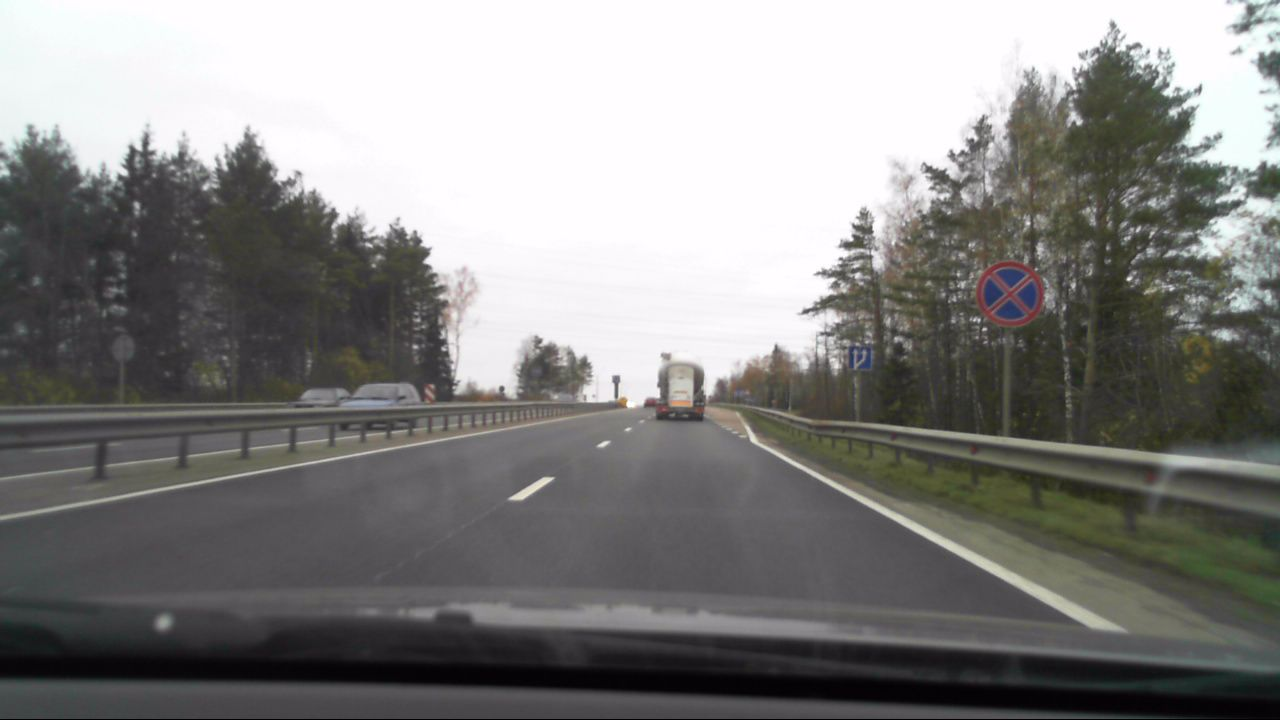No Parking: (976, 259, 1046, 330)
